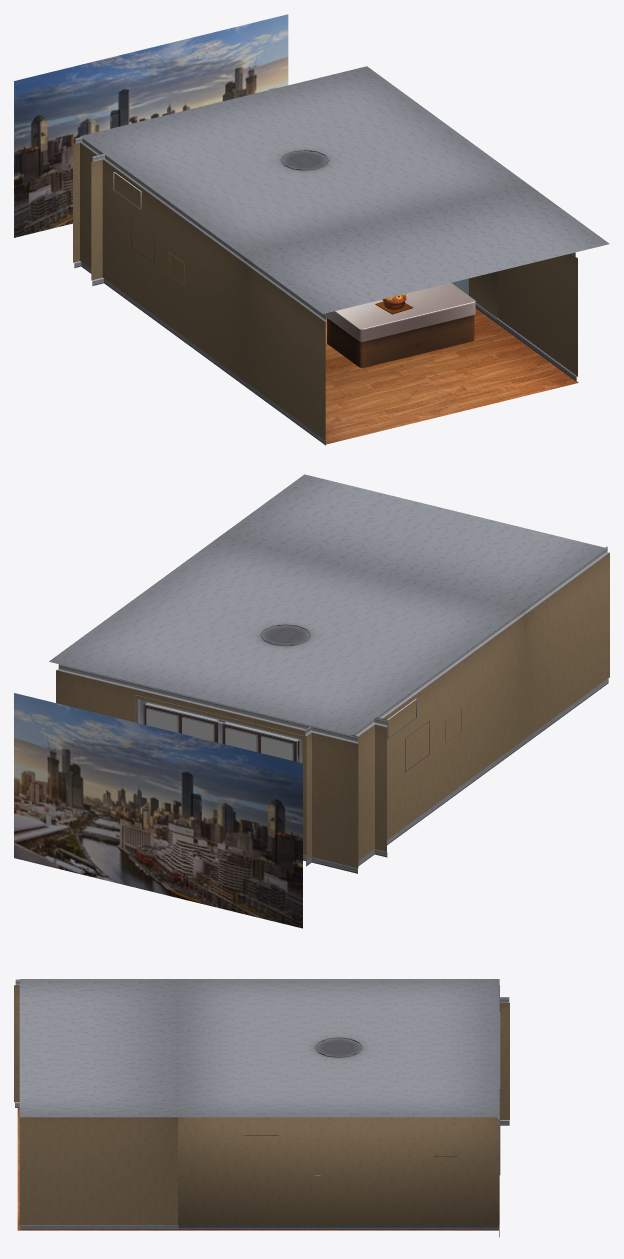
Rendered from XianYiRenJia_02.FBX.
3 renders of one model, top to bottom at view 1: azimuth 30°, elevation 25°; view 2: azimuth 150°, elevation 25°; view 3: azimuth 270°, elevation 25°, orthographic. The views are drawn at different scales.
Parts seen in each view (by area): view 1: XianYiRenJia_01_changjing_01, Plane001, XianYiRenJia_01_changjing_02, XianYiRenJia_01_changjing_04; view 2: XianYiRenJia_01_changjing_01, Plane001, XianYiRenJia_01_boli; view 3: XianYiRenJia_01_changjing_01, XianYiRenJia_01_changjing_02.
Part boxes in pixels (x1,y1,x2,y2): XianYiRenJia_01_changjing_01: [73, 66, 609, 445]; Plane001: [14, 14, 288, 237]; XianYiRenJia_01_changjing_02: [325, 283, 578, 444]; XianYiRenJia_01_changjing_04: [113, 172, 406, 309]; XianYiRenJia_01_changjing_01: [49, 474, 609, 873]; Plane001: [14, 693, 302, 928]; XianYiRenJia_01_boli: [146, 709, 292, 760]; XianYiRenJia_01_changjing_01: [14, 979, 509, 1237]; XianYiRenJia_01_changjing_02: [17, 1108, 498, 1230].
Size of the model in its own units: 3569 by 1792 by 6247.
